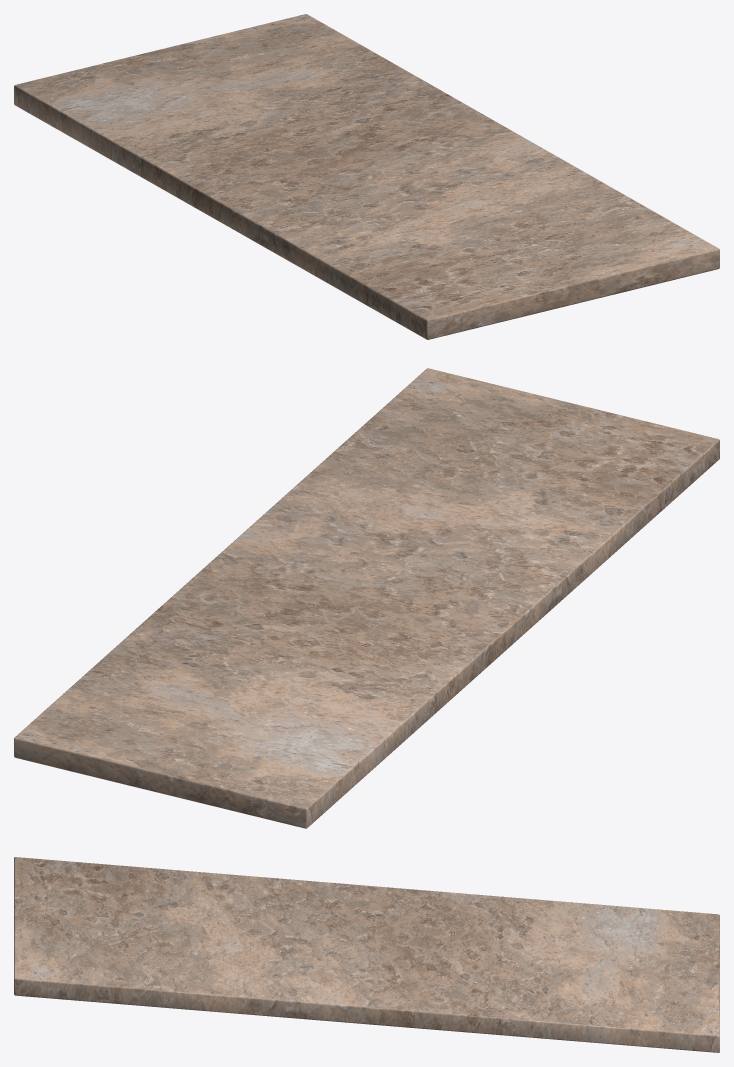
File: outFlor.fbx
3 renders of one model, top to bottom at view 1: azimuth 30°, elevation 25°; view 2: azimuth 150°, elevation 25°; view 3: azimuth 270°, elevation 25°, orthographic. The views are drawn at different scales.
Parts seen in each view (by area): view 1: flor.001; view 2: flor.001; view 3: flor.001.
Part boxes in pixels (<box>): flor.001: <box>14,14,719,339</box>; flor.001: <box>14,368,719,828</box>; flor.001: <box>14,857,719,1052</box>.
Size of the model in its own units: 300 by 85.61 by 733.
Materials: 1 (1 with a texture image).
